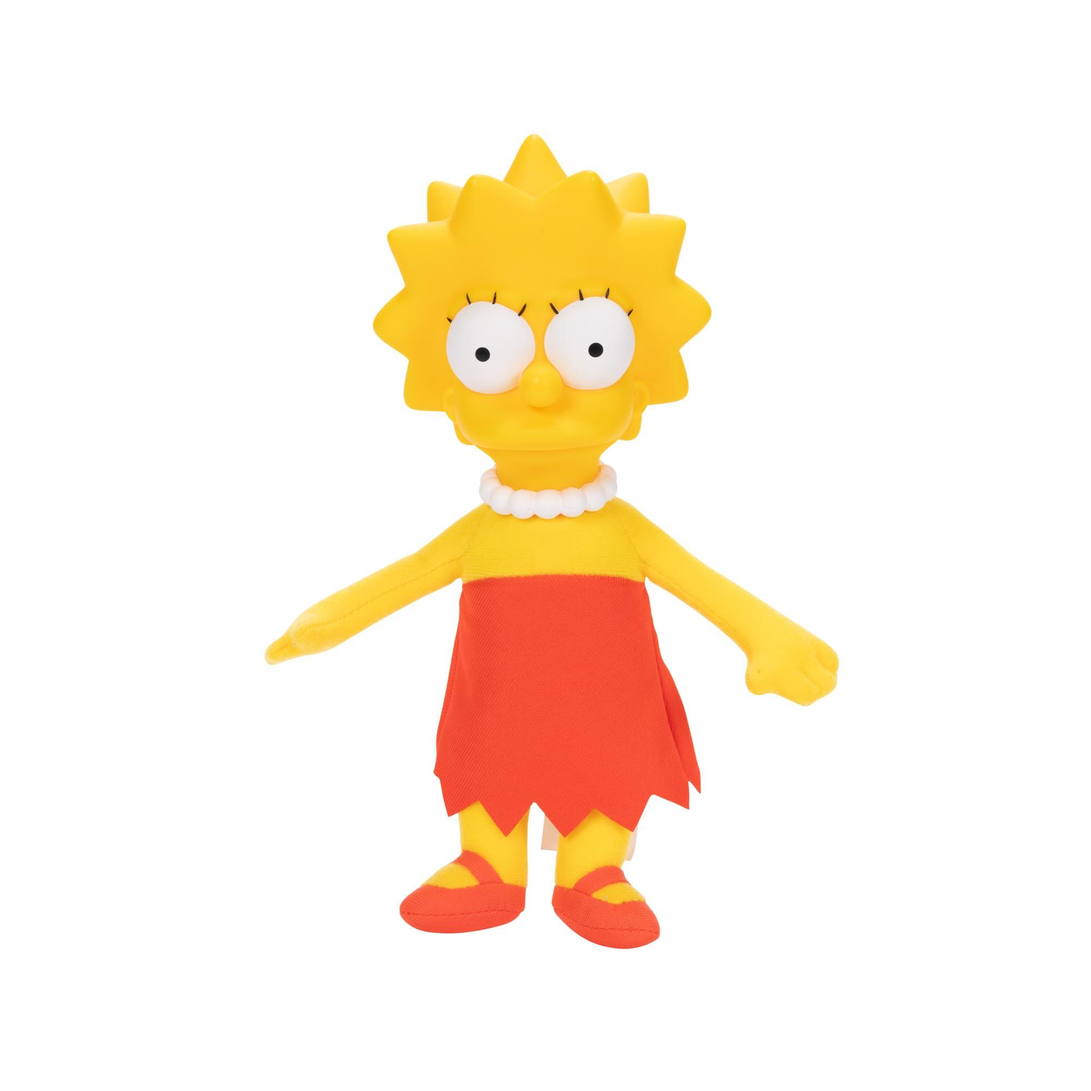Lisa: (220, 131, 866, 978)
